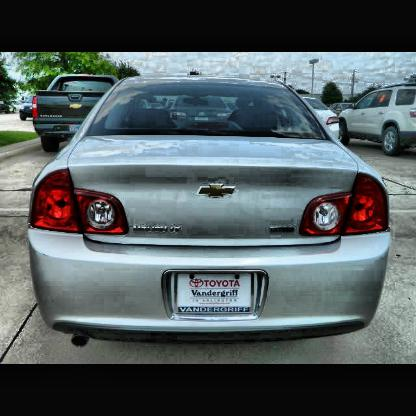Chevrolet Malibu Hybrid Sedan 2010: (27, 78, 391, 349)
